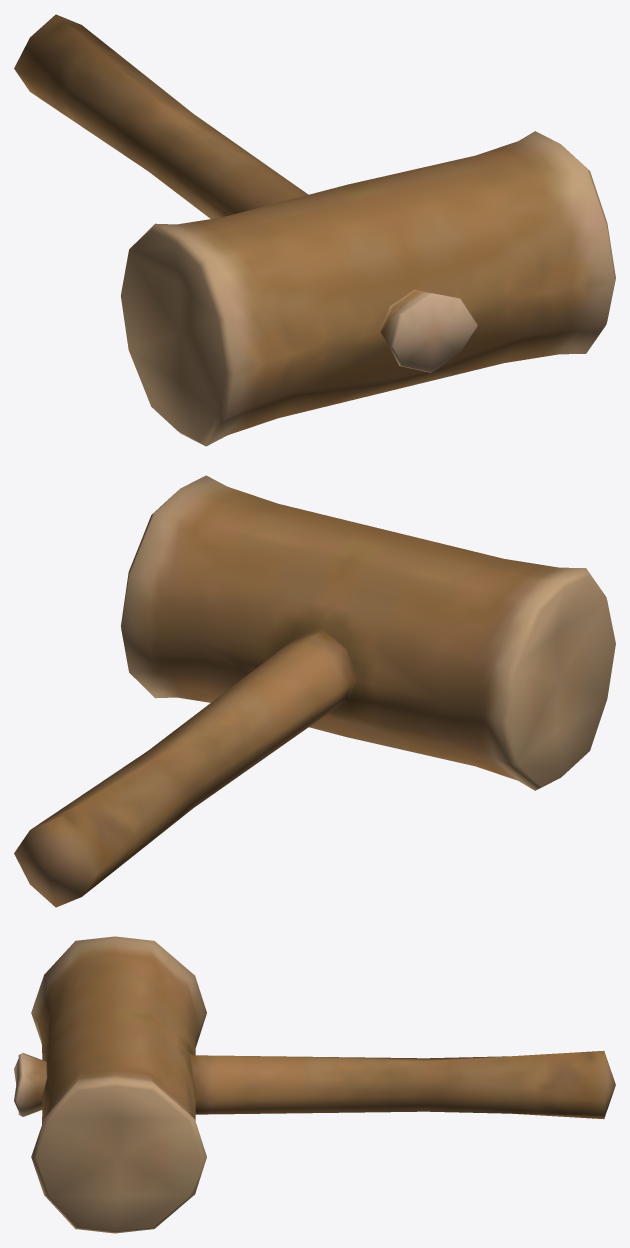
Rendered from Hammer.fbx.
3 views of the same model, one above another, from view 1: azimuth 30°, elevation 25°; view 2: azimuth 150°, elevation 25°; view 3: azimuth 270°, elevation 25° (orthographic). The views are drawn at different scales.
Parts seen in each view (by area): view 1: hammer; view 2: hammer; view 3: hammer.
Boxes of the visible parts, left/top/right/bottom form: hammer: left=14, top=14, right=615, bottom=446; hammer: left=14, top=475, right=615, bottom=907; hammer: left=14, top=936, right=615, bottom=1233.
Size of the model in its own units: 27.4 by 13.21 by 47.09.
Materials: 1 (1 with a texture image).
